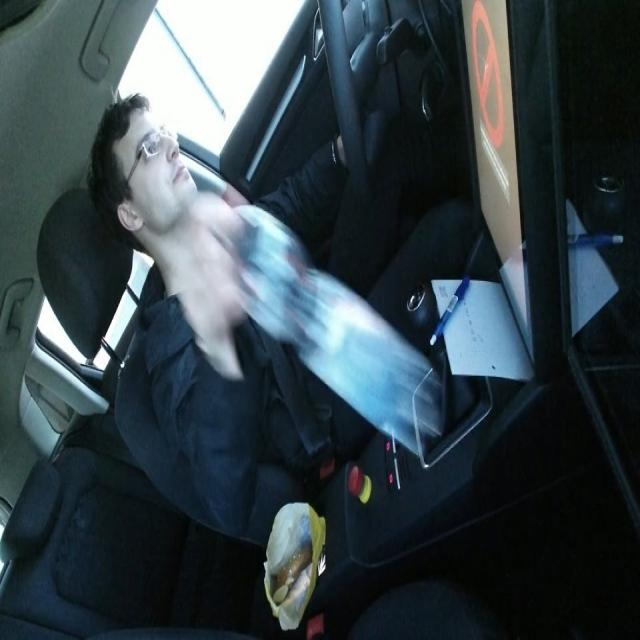pen: (428, 267, 475, 350)
